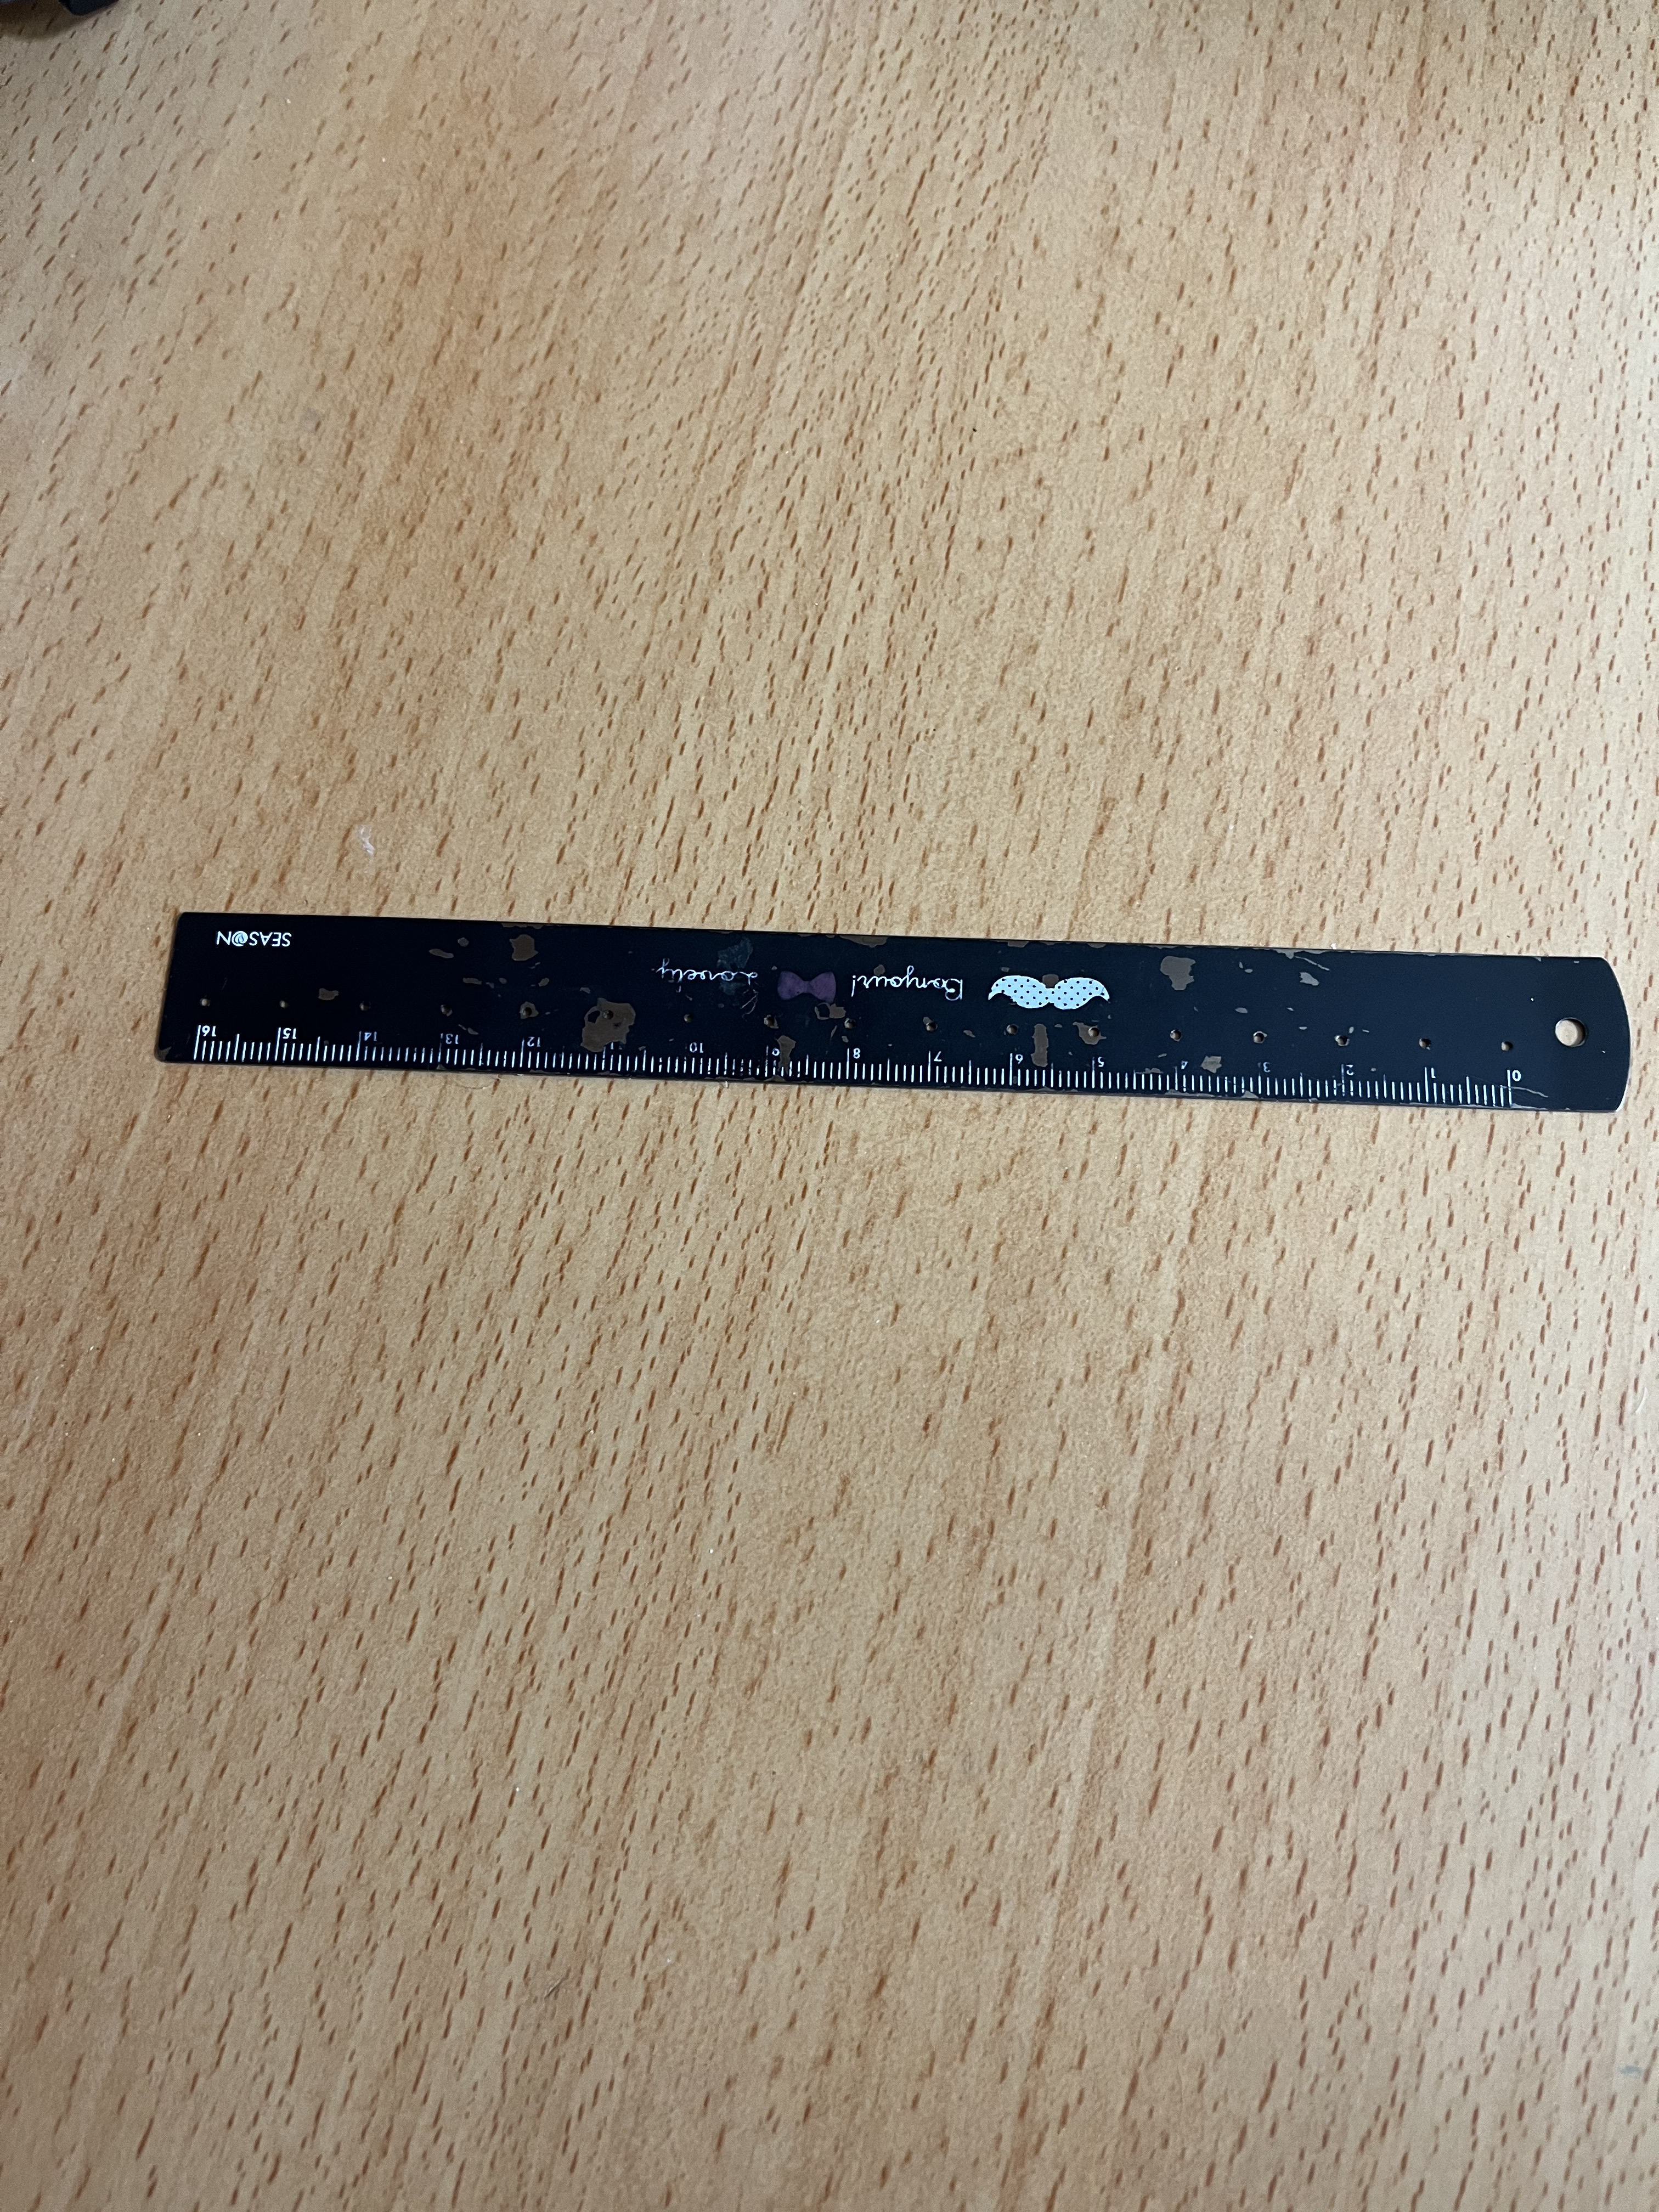ruler: (132, 860, 1642, 1162)
